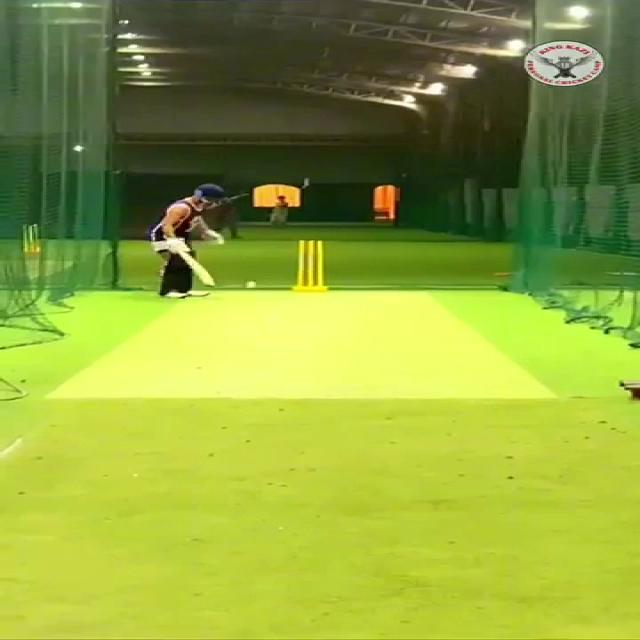batsman: (140, 178, 238, 302)
